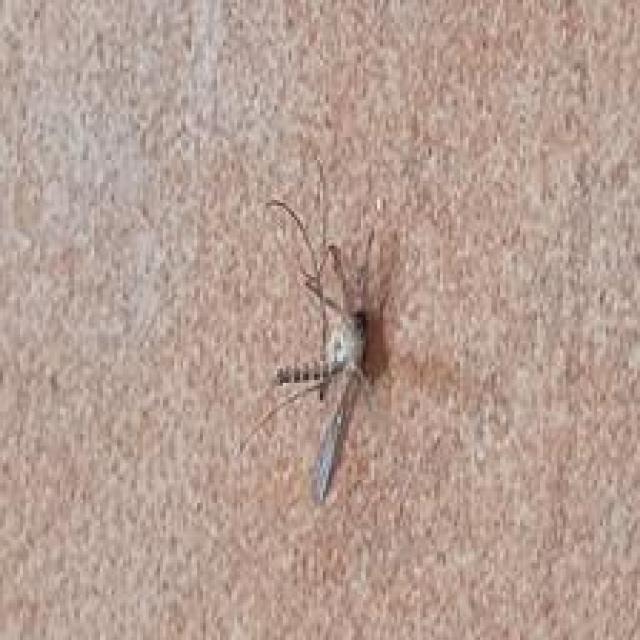Culex: (237, 184, 403, 507)
